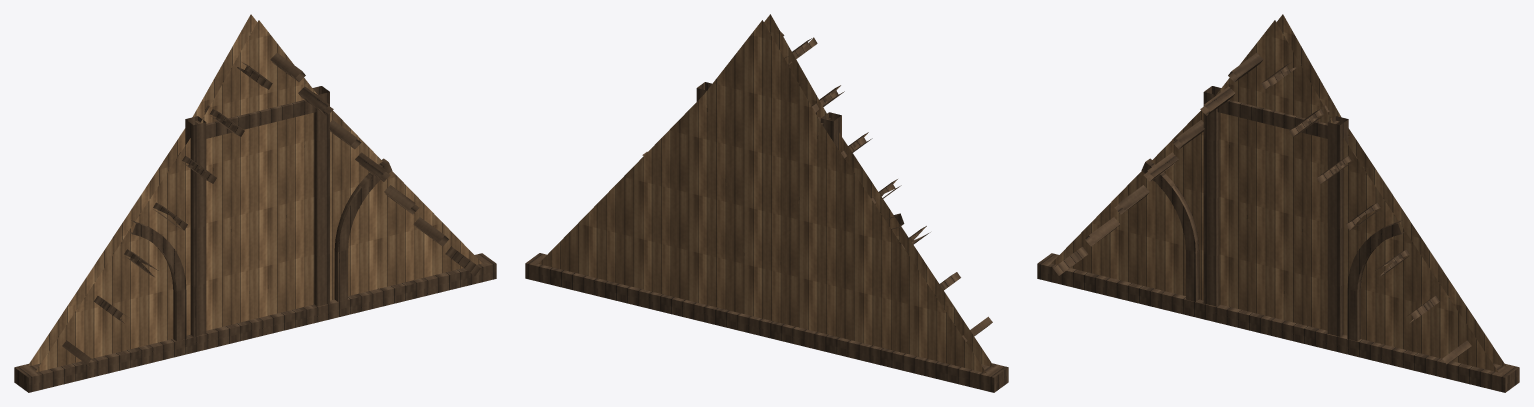
The model's file is Roof_Front_Plank8_LOD2.gltf.
The picture shows the model from 3 angles, left to right: view 1: azimuth 30°, elevation 25°; view 2: azimuth 150°, elevation 25°; view 3: azimuth 330°, elevation 25°; orthographic projection.
Parts seen in each view (by area): view 1: Roof_Front_Plank8_LOD2; view 2: Roof_Front_Plank8_LOD2; view 3: Roof_Front_Plank8_LOD2.
Part boxes in pixels (<box>): Roof_Front_Plank8_LOD2: <box>14,14,496,392</box>; Roof_Front_Plank8_LOD2: <box>525,14,1008,392</box>; Roof_Front_Plank8_LOD2: <box>1037,14,1519,392</box>.
Size of the model in its own units: 8.51 by 5.45 by 1.13.
Materials: 2 (2 with a texture image).
